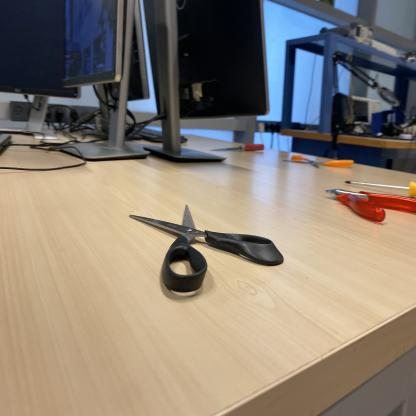scissors: (129, 203, 285, 297), (282, 153, 354, 170)
